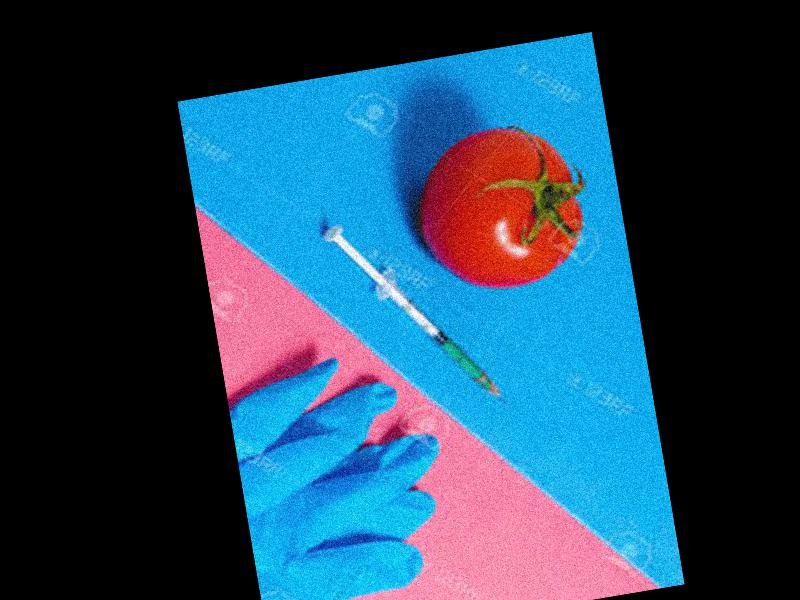Tomato: (405, 119, 590, 300)
